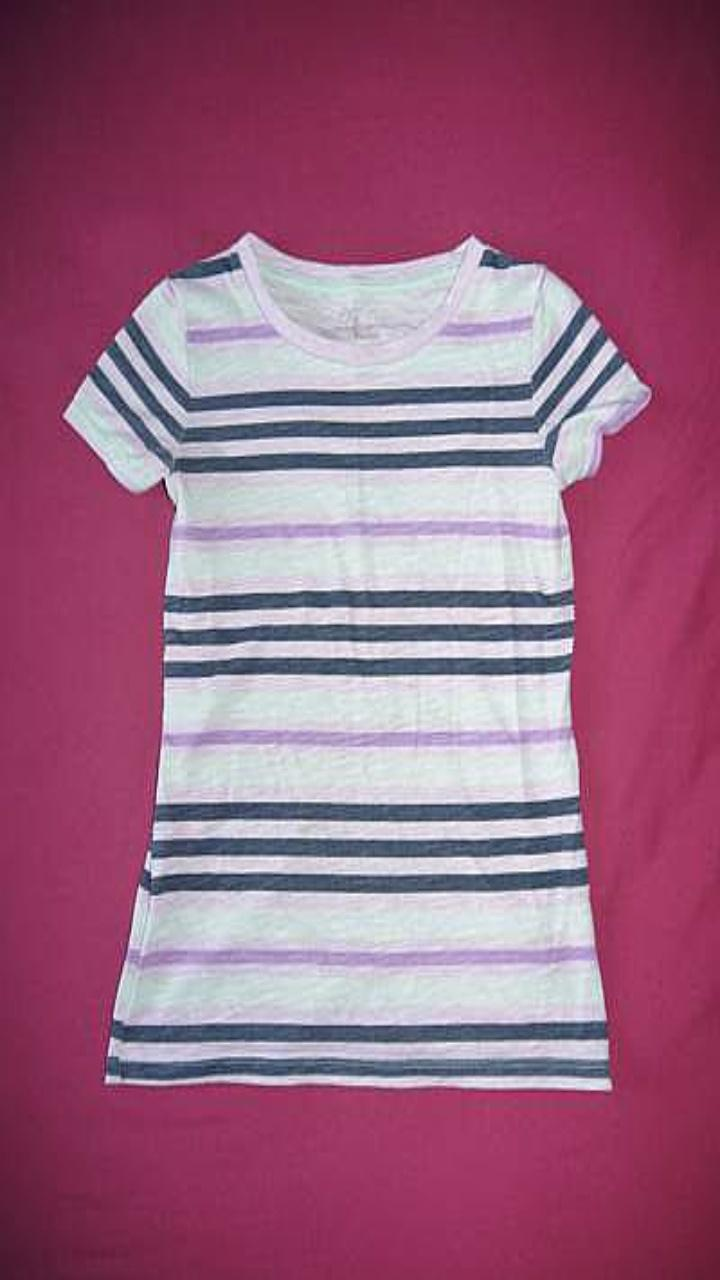T-Shirt: (63, 231, 650, 1089)
